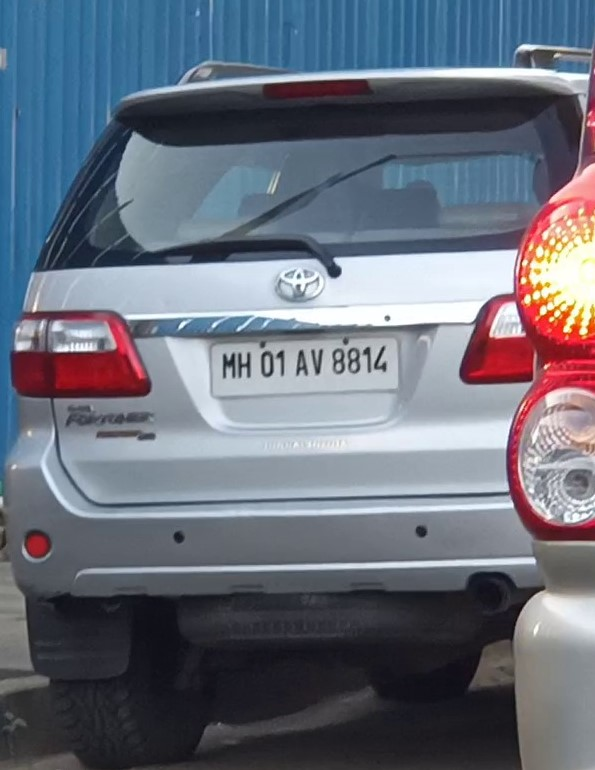MH01AV8814: (211, 338, 401, 391)
